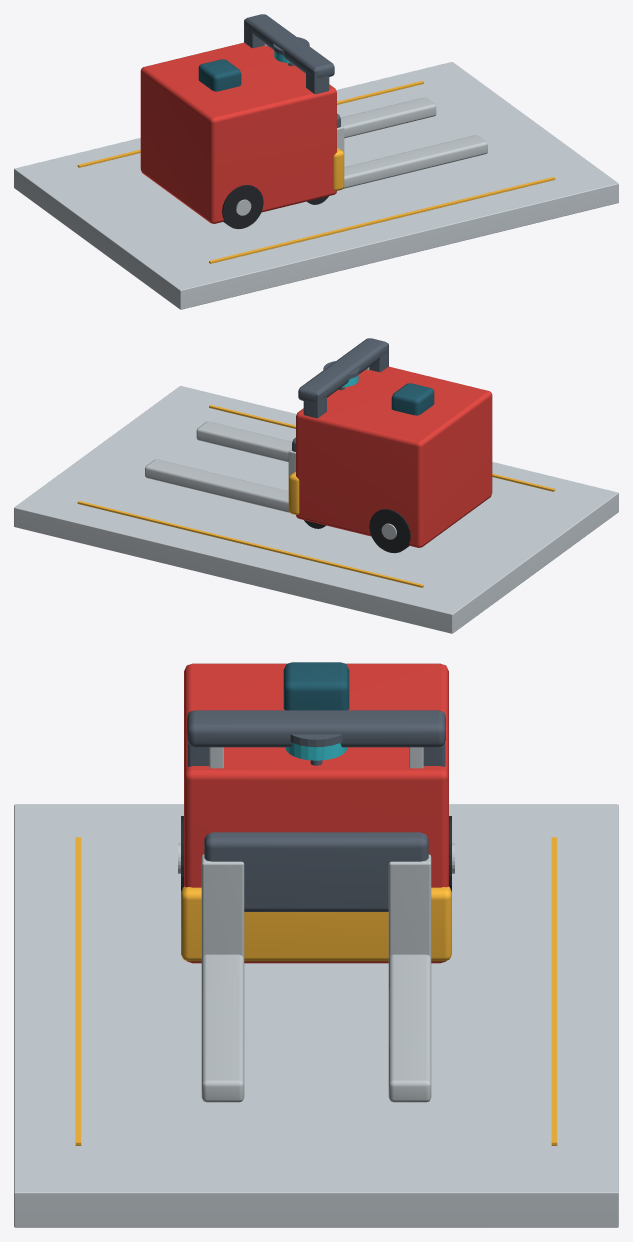
The picture shows the model from 3 angles, top to bottom: view 1: azimuth 30°, elevation 25°; view 2: azimuth 150°, elevation 25°; view 3: azimuth 270°, elevation 25°; orthographic projection. The views are drawn at different scales.
Parts seen in each view (by area): view 1: Ground plane, Power unit, Fork tine / pallet handling, Mast crosshead, Fork tine / pallet handling.001, Concept clearance guide, Driven wheel / tyre, Operator display, Concept clearance guide.001, Front safety bumper, Lift mast outer rail; view 2: Ground plane, Power unit, Fork tine / pallet handling.001, Mast crosshead, Fork tine / pallet handling, Concept clearance guide.001, Driven wheel / tyre.001, Operator display, Concept clearance guide, Front safety bumper, Lift mast outer rail.001; view 3: Ground plane, Power unit, Fork carriage, Front safety bumper, Mast crosshead, Fork tine / pallet handling, Fork tine / pallet handling.001, Fork upright heel, Fork upright heel.001, Operator display, Concept clearance guide, Concept clearance guide.001 (+1 smaller).
Part boxes in pixels (x1,y1,x2,y2): Ground plane: (14, 62, 618, 309); Power unit: (140, 42, 336, 223); Fork tine / pallet handling: (343, 135, 487, 188); Mast crosshead: (245, 14, 334, 77); Fork tine / pallet handling.001: (340, 97, 436, 138); Concept clearance guide: (209, 177, 555, 263); Driven wheel / tyre: (222, 185, 263, 229); Operator display: (198, 59, 241, 91); Concept clearance guide.001: (77, 81, 423, 167); Front safety bumper: (333, 148, 344, 190); Lift mast outer rail: (306, 65, 329, 94); Ground plane: (14, 386, 618, 633); Power unit: (296, 366, 492, 547); Fork tine / pallet handling.001: (145, 459, 289, 512); Mast crosshead: (298, 338, 387, 401); Fork tine / pallet handling: (196, 421, 292, 462); Concept clearance guide.001: (77, 501, 423, 587); Driven wheel / tyre.001: (369, 509, 410, 553); Operator display: (391, 383, 434, 415); Concept clearance guide: (209, 405, 555, 491); Front safety bumper: (288, 472, 299, 514); Lift mast outer rail.001: (303, 389, 326, 418); Ground plane: (14, 804, 618, 1227); Power unit: (184, 663, 448, 963); Fork carriage: (204, 832, 428, 911); Front safety bumper: (181, 886, 451, 961); Mast crosshead: (187, 710, 445, 747); Fork tine / pallet handling: (201, 954, 244, 1102); Fork tine / pallet handling.001: (388, 954, 431, 1102); Fork upright heel: (201, 854, 244, 957); Fork upright heel.001: (388, 854, 431, 957); Operator display: (283, 662, 349, 710); Concept clearance guide: (75, 837, 81, 1145); Concept clearance guide.001: (551, 837, 557, 1145).
Size of the model in its own units: 2.8 by 0.986 by 1.84.
